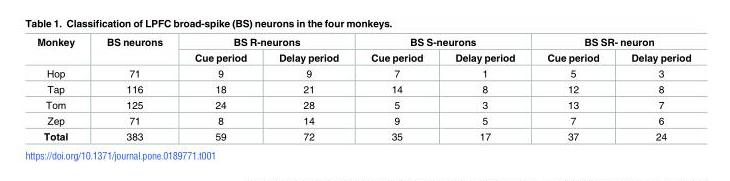table: (36, 37, 690, 141)
table column: (262, 37, 354, 141), (438, 37, 530, 141), (89, 37, 178, 141), (178, 37, 262, 141), (354, 37, 438, 141), (530, 37, 614, 141), (614, 37, 690, 141), (36, 37, 89, 141)
table column header: (36, 37, 690, 65)
table row: (36, 49, 690, 65), (36, 65, 690, 81), (36, 81, 690, 97), (36, 97, 690, 113), (36, 113, 690, 128), (36, 128, 690, 141), (36, 37, 690, 49)
table spanning cell: (89, 37, 178, 65), (178, 37, 354, 49), (354, 37, 530, 49), (530, 37, 690, 49), (36, 37, 89, 65)
